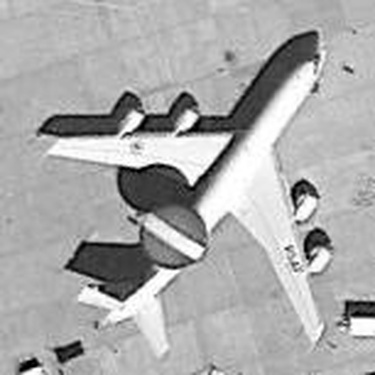airplane: (32, 17, 355, 359)
